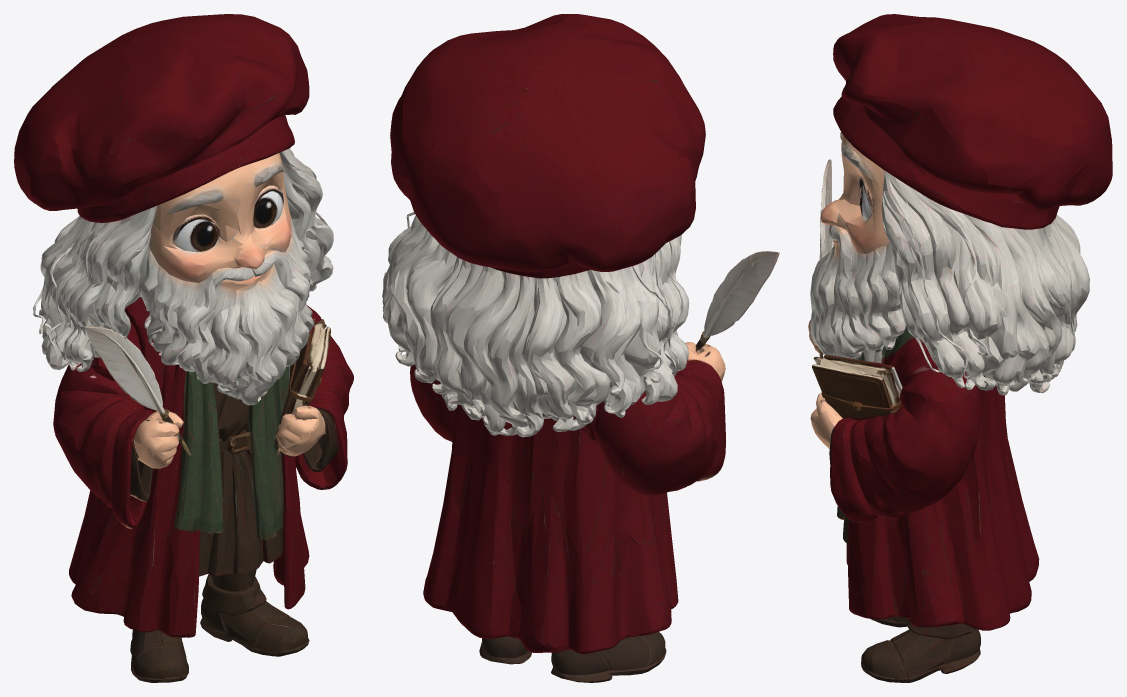
Rendered from leonardo.glb.
The picture shows the model from 3 angles, left to right: view 1: azimuth 30°, elevation 25°; view 2: azimuth 150°, elevation 25°; view 3: azimuth 270°, elevation 25°; orthographic projection. The views are drawn at different scales.
Visible parts, largest first — view 1: Leonardo; view 2: Leonardo; view 3: Leonardo.
Boxes of the visible parts, left/top/right/bottom form: Leonardo: left=14, top=14, right=353, bottom=682; Leonardo: left=382, top=14, right=779, bottom=682; Leonardo: left=808, top=14, right=1112, bottom=682.
Bounding box in the file's own units: 1 × 1.9 × 0.8527.
Materials: 1 (1 with a texture image).
